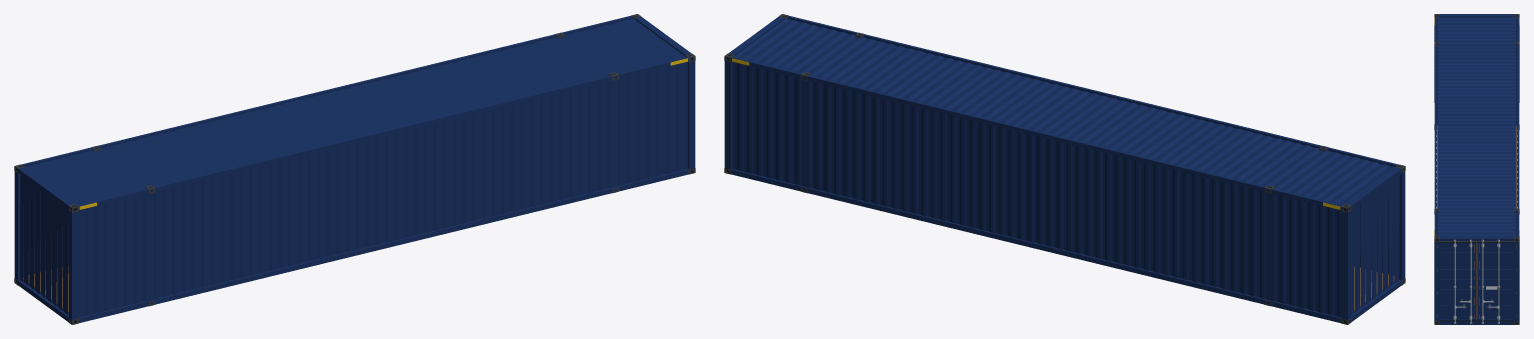
File: iso_53ft_hc.obj
3 renders of one model, left to right at view 1: azimuth 30°, elevation 25°; view 2: azimuth 150°, elevation 25°; view 3: azimuth 270°, elevation 25°, orthographic. The views are drawn at different scales.
Parts seen in each view (by area): view 1: 04_Corrugated_Corten_Panels, 02_Structural_Frame_Rails; view 2: 04_Corrugated_Corten_Panels, 02_Structural_Frame_Rails; view 3: 04_Corrugated_Corten_Panels, 06_Corrugated_Rear_Doors, 02_Structural_Frame_Rails, 07_Galvanized_Locking_Hardware, 03_Marine_Wood_Floor, 05_Door_Rubber_Gaskets_Beveled, 01_ISO_Corner_Castings_Hollow3D, 01_ISO_40ft_Intermediate_Castings.
Part boxes in pixels (bbox=[...]): 04_Corrugated_Corten_Panels: bbox=[20, 18, 687, 317]; 02_Structural_Frame_Rails: bbox=[14, 16, 695, 322]; 04_Corrugated_Corten_Panels: bbox=[732, 18, 1399, 317]; 02_Structural_Frame_Rails: bbox=[724, 16, 1405, 322]; 04_Corrugated_Corten_Panels: bbox=[1437, 17, 1516, 236]; 06_Corrugated_Rear_Doors: bbox=[1436, 242, 1517, 320]; 02_Structural_Frame_Rails: bbox=[1434, 14, 1519, 324]; 07_Galvanized_Locking_Hardware: bbox=[1437, 239, 1516, 323]; 03_Marine_Wood_Floor: bbox=[1437, 125, 1516, 319]; 05_Door_Rubber_Gaskets_Beveled: bbox=[1439, 242, 1514, 321]; 01_ISO_Corner_Castings_Hollow3D: bbox=[1434, 14, 1519, 324]; 01_ISO_40ft_Intermediate_Castings: bbox=[1434, 41, 1519, 214].
Size of the model in its own units: 16.18 by 2.9 by 2.59.
